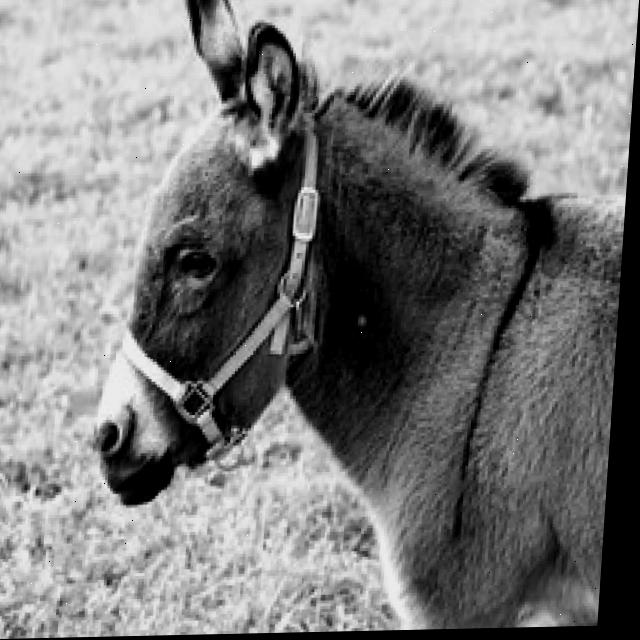Donkey: (78, 0, 637, 634)
